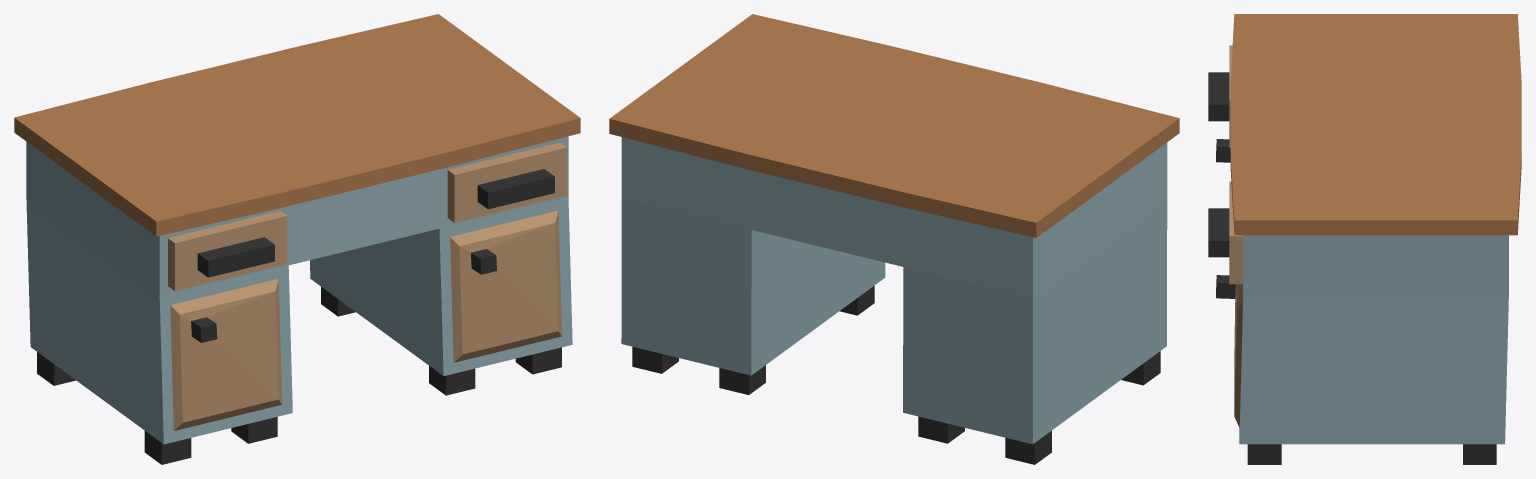
Rendered from Desk.fbx.
3 views of the same model, side by side, from view 1: azimuth 30°, elevation 25°; view 2: azimuth 150°, elevation 25°; view 3: azimuth 270°, elevation 25° (orthographic).
Visible parts, largest first — view 1: Desk; view 2: Desk; view 3: Desk.
Boxes of the visible parts, <box> form: Desk: <box>14,14,580,464</box>; Desk: <box>609,14,1179,464</box>; Desk: <box>1208,14,1521,464</box>.
Bounding box in the file's own units: 1.34 × 0.7553 × 0.8557.
